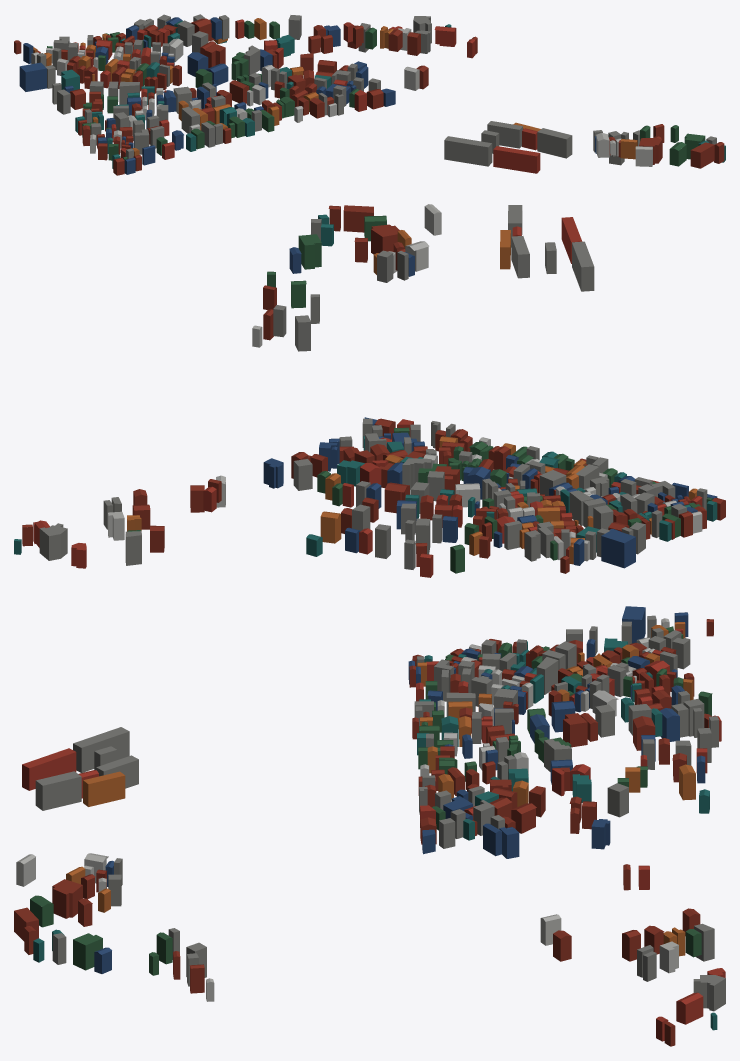
Rendered from near-16-54727-29745.d8516269.glb.
The picture shows the model from 3 angles, top to bottom: view 1: azimuth 30°, elevation 25°; view 2: azimuth 150°, elevation 25°; view 3: azimuth 270°, elevation 25°; orthographic projection. The views are drawn at different scales.
Size of the model in its own units: 604 by 156 by 598.
